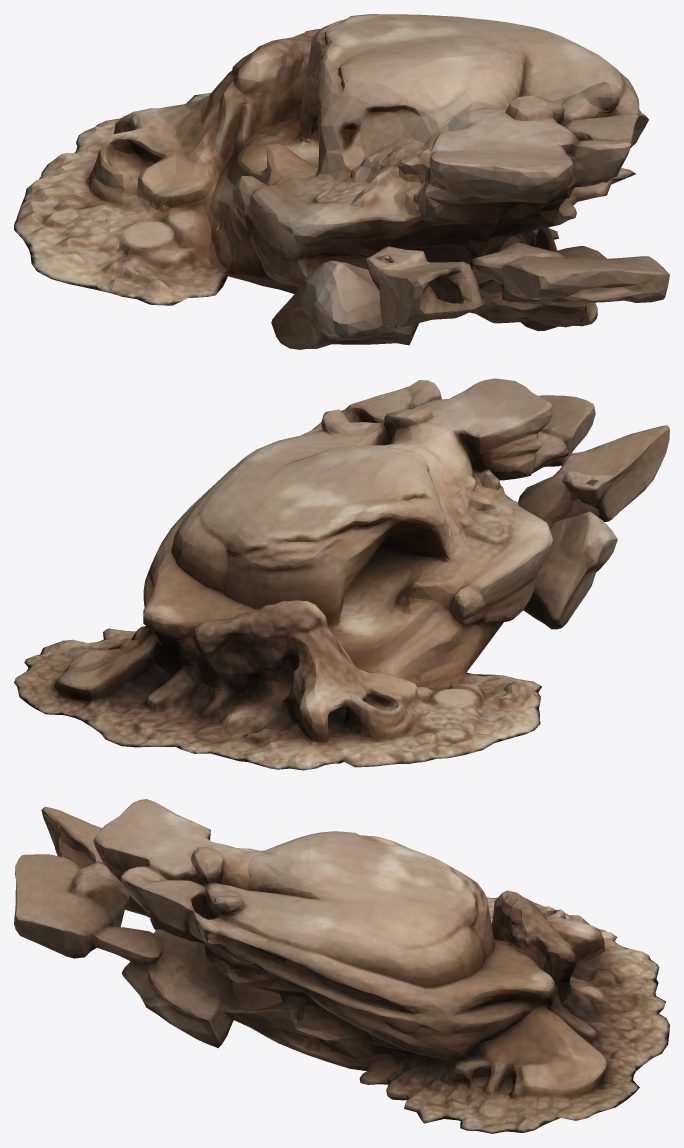
The model's file is rocher.glb.
The picture shows the model from 3 angles, top to bottom: view 1: azimuth 30°, elevation 25°; view 2: azimuth 150°, elevation 25°; view 3: azimuth 270°, elevation 25°; orthographic projection. The views are drawn at different scales.
Visible parts, largest first — view 1: world; view 2: world; view 3: world.
Part boxes in pixels (box(x1,y1,x2,y2)): world: box(14, 14, 669, 349); world: box(14, 378, 669, 770); world: box(14, 799, 669, 1133).
Size of the model in its own units: 0.7981 by 0.334 by 0.9955.
1 material, 1 textured.
